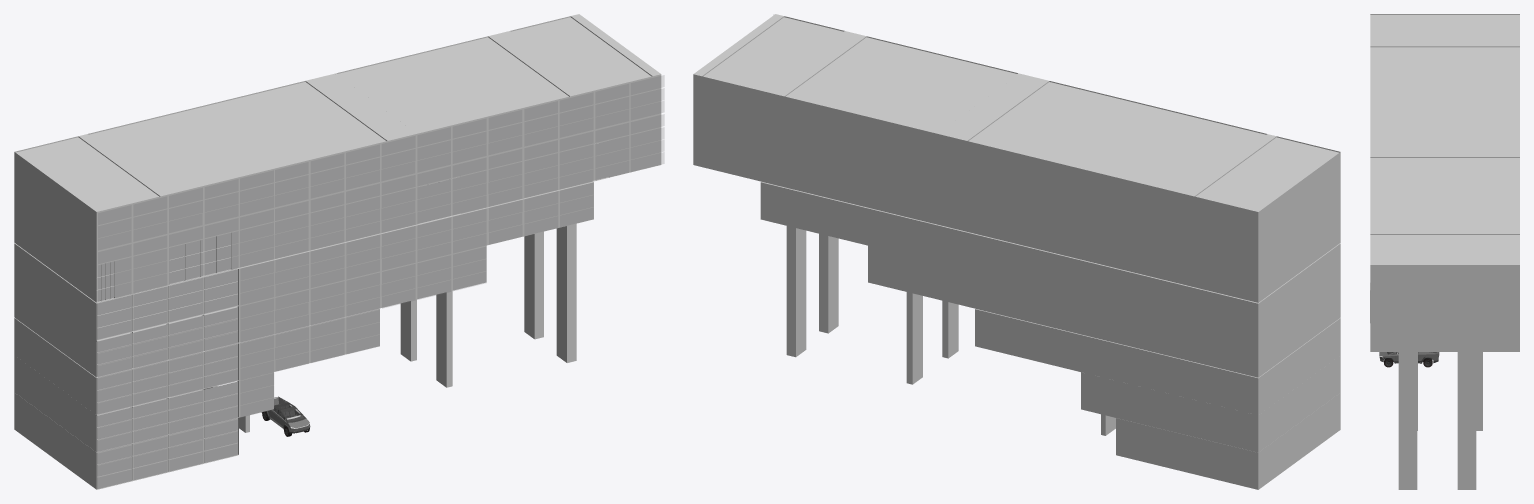
File: Harbour.Space.glb
The picture shows the model from 3 angles, left to right: view 1: azimuth 30°, elevation 25°; view 2: azimuth 150°, elevation 25°; view 3: azimuth 270°, elevation 25°; orthographic projection. The views are drawn at different scales.
Visible parts, largest first — view 1: Glasses6th, OpenSpace, Floor3, Classes, Onerangtime, Floor5, Glasses5th, Glasses4th, Floor4, TheOffice, Glasses3rd, Glasses2nd (+7 smaller); view 2: OpenSpace, Classes, Floor5, Onerangtime, Floor4, Floor3, TheOffice, kitchen, SpaceBar, LargeConcrete1, LargeConcrete2, MidConcrete2 (+1 smaller); view 3: TheOffice, OpenSpace, Classes, Onerangtime, LargeConcrete2, LargeConcrete1, Floor5, MidConcrete2, body.003.
Part boxes in pixels (x1=…): Glasses6th: x1=98, y1=75, x2=664, y2=301; OpenSpace: x1=88, y1=73, x2=418, y2=284; Floor3: x1=14, y1=233, x2=379, y2=489; Classes: x1=337, y1=31, x2=609, y2=224; Onerangtime: x1=14, y1=134, x2=169, y2=302; Floor5: x1=14, y1=177, x2=593, y2=340; Glasses5th: x1=98, y1=183, x2=593, y2=339; Glasses4th: x1=98, y1=247, x2=486, y2=377; Floor4: x1=14, y1=245, x2=486, y2=377; TheOffice: x1=510, y1=14, x2=661, y2=181; Glasses3rd: x1=98, y1=310, x2=379, y2=414; Glasses2nd: x1=98, y1=373, x2=273, y2=451; OpenSpace: x1=936, y1=73, x2=1266, y2=284; Classes: x1=762, y1=31, x2=1017, y2=224; Floor5: x1=760, y1=181, x2=1340, y2=340; Onerangtime: x1=1185, y1=134, x2=1340, y2=302; Floor4: x1=868, y1=245, x2=1340, y2=377; Floor3: x1=975, y1=308, x2=1340, y2=415; TheOffice: x1=693, y1=14, x2=844, y2=181; kitchen: x1=1081, y1=355, x2=1340, y2=452; SpaceBar: x1=1116, y1=393, x2=1340, y2=489; LargeConcrete1: x1=786, y1=226, x2=806, y2=357; LargeConcrete2: x1=819, y1=233, x2=838, y2=333; MidConcrete2: x1=906, y1=292, x2=922, y2=384; TheOffice: x1=1370, y1=235, x2=1519, y2=347; OpenSpace: x1=1370, y1=47, x2=1519, y2=157; Classes: x1=1370, y1=158, x2=1519, y2=322; Onerangtime: x1=1370, y1=14, x2=1519, y2=47; LargeConcrete2: x1=1398, y1=352, x2=1417, y2=489; LargeConcrete1: x1=1457, y1=352, x2=1476, y2=489; Floor5: x1=1370, y1=347, x2=1519, y2=351; MidConcrete2: x1=1476, y1=352, x2=1482, y2=430; body.003: x1=1379, y1=352, x2=1439, y2=362.
Size of the model in its own units: 31.88 by 15.1 by 8.06.
Materials: 7 (4 with a texture image).
